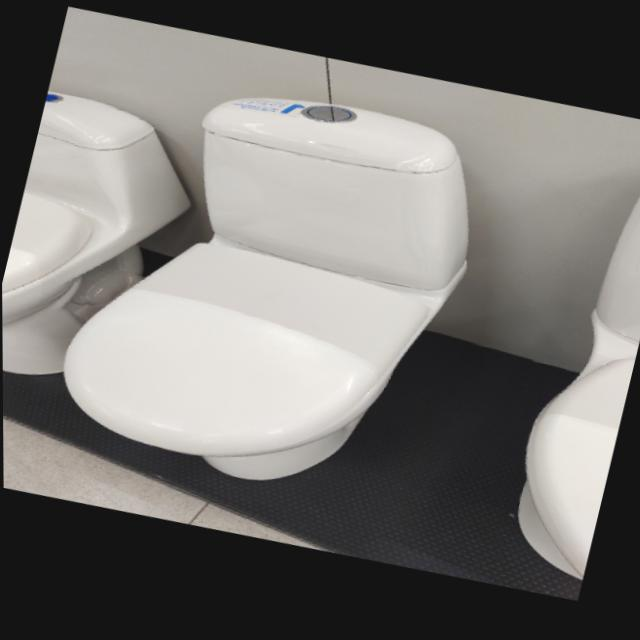toilet: (41, 49, 502, 531), (1, 82, 213, 406), (495, 150, 640, 590)
